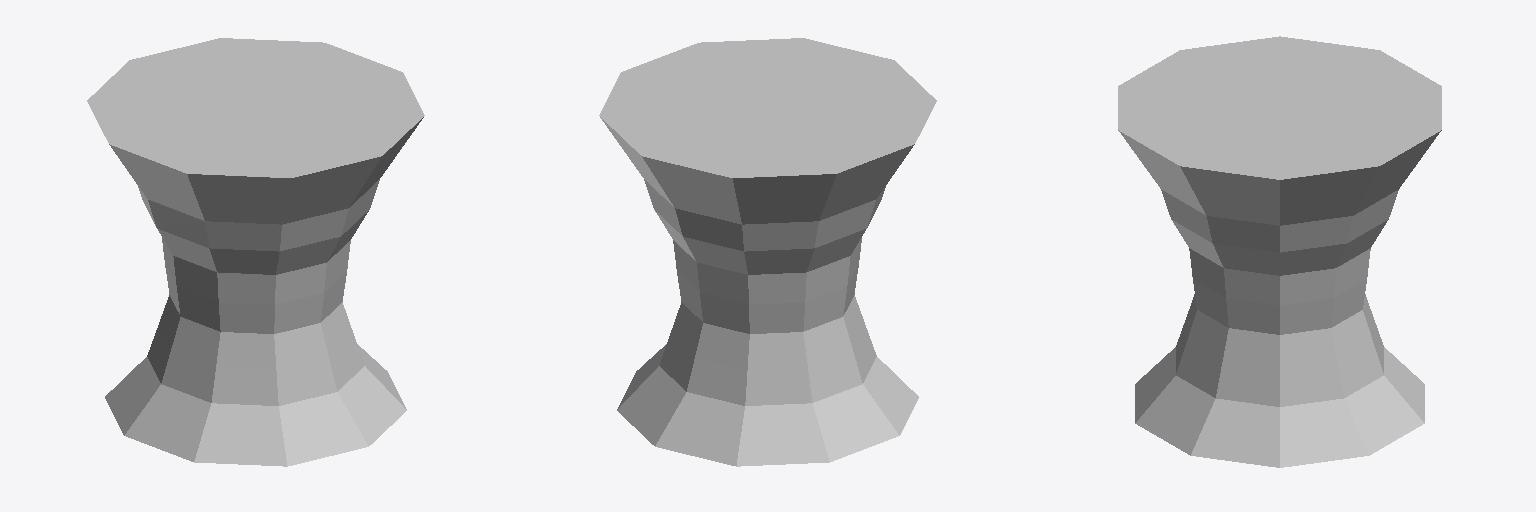
File: Tornade.obj
The picture shows the model from 3 angles: view 1: azimuth 30°, elevation 25°; view 2: azimuth 150°, elevation 25°; view 3: azimuth 270°, elevation 25°; orthographic projection.
Parts seen in each view (by area): view 1: Tornade; view 2: Tornade; view 3: Tornade.
Part boxes in pixels (x1,y1,x2,y2): Tornade: (87, 38, 424, 466); Tornade: (599, 38, 936, 466); Tornade: (1118, 36, 1441, 467).
Bounding box in the file's own units: 1.23 × 1.18 × 1.17.